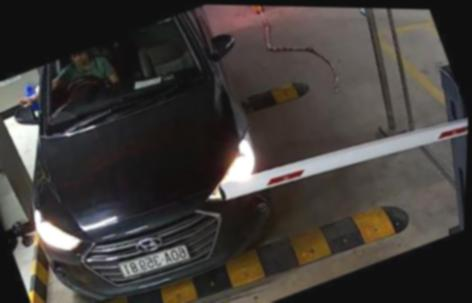License_Plate: (115, 240, 189, 280)
